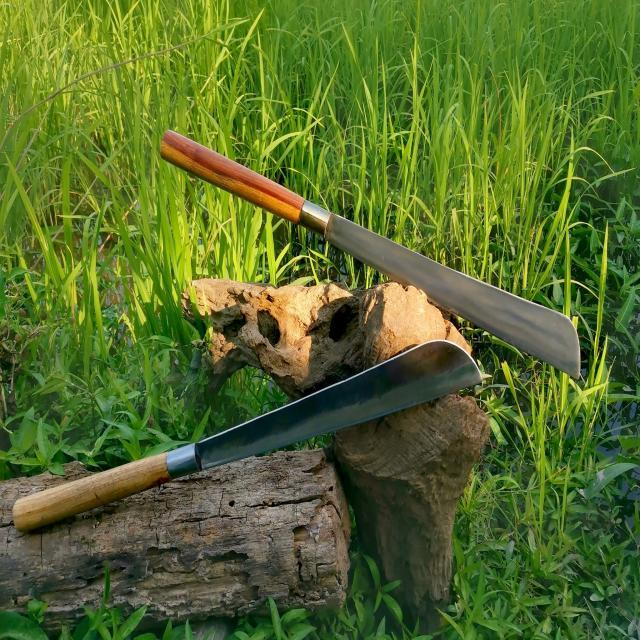eto: (149, 114, 587, 389), (3, 331, 498, 549)
